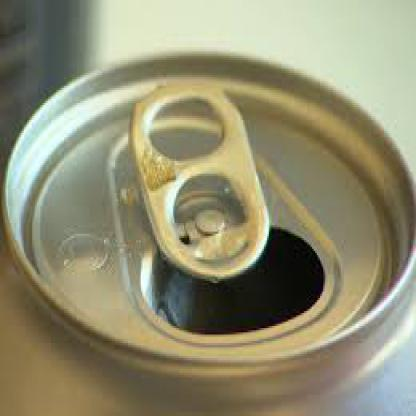METAL: (0, 47, 415, 414), (128, 79, 269, 279)
